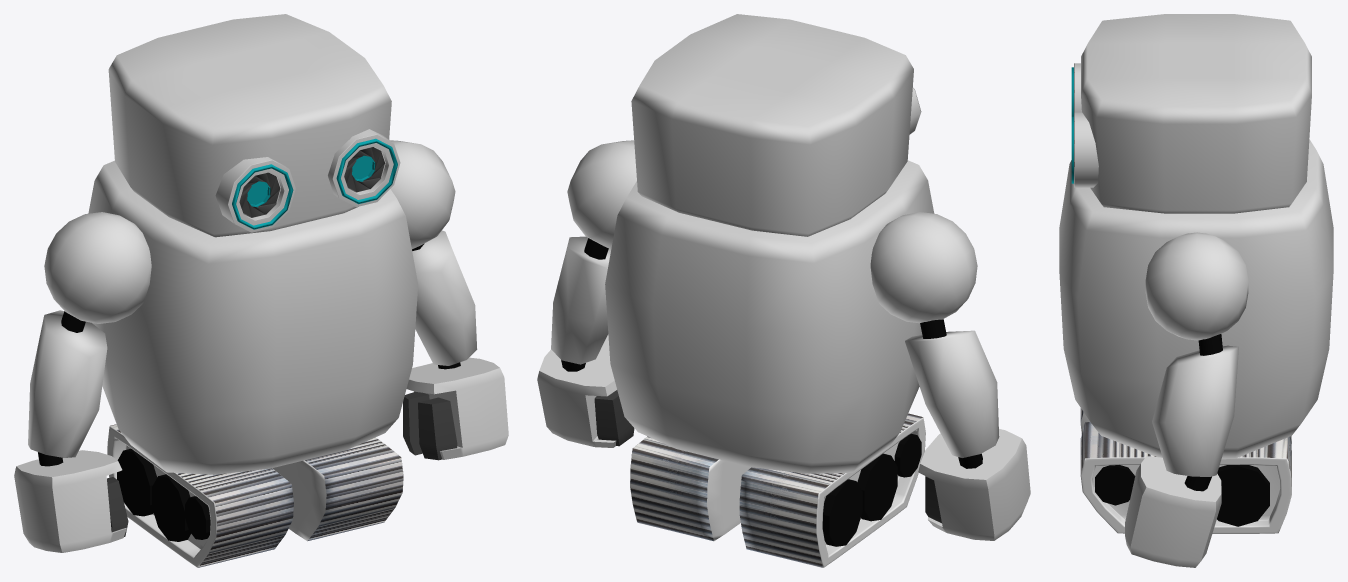
File: Push.fbx
The picture shows the model from 3 angles, left to right: view 1: azimuth 30°, elevation 25°; view 2: azimuth 150°, elevation 25°; view 3: azimuth 270°, elevation 25°; orthographic projection. The views are drawn at different scales.
Visible parts, largest first — view 1: polySurface36, polySurface38, polySurface40, polySurface67, polySurface39, polySurface55, polySurface63, polySurface54, polySurface57, polySurface61, polySurface50, polySurface47 (+10 smaller); view 2: polySurface36, polySurface38, polySurface40, polySurface67, polySurface39, polySurface63, polySurface55, polySurface54, polySurface57, polySurface61, polySurface42, polySurface44 (+2 smaller); view 3: polySurface36, polySurface38, polySurface61, polySurface54, polySurface57, polySurface39, polySurface41, polySurface47, polySurface45, polySurface60, polySurface50.
Part boxes in pixels (x1,y1,x2,y2): polySurface36: (88,160,418,474); polySurface38: (108,14,391,237); polySurface40: (107,424,293,567); polySurface67: (44,212,151,323); polySurface39: (272,437,403,541); polySurface55: (28,310,107,457); polySurface63: (14,450,126,552); polySurface54: (412,230,477,365); polySurface57: (406,357,508,459); polySurface61: (390,140,455,249); polySurface50: (215,157,295,232); polySurface47: (328,129,400,207); polySurface36: (605,160,934,473); polySurface38: (631,14,913,236); polySurface40: (739,413,925,567); polySurface67: (870,212,977,323); polySurface39: (630,436,750,541); polySurface63: (918,429,1030,540); polySurface55: (905,330,999,457); polySurface54: (551,236,610,364); polySurface57: (537,334,616,447); polySurface61: (567,140,636,249); polySurface42: (822,479,862,546); polySurface44: (857,453,897,521); polySurface36: (1059,139,1333,459); polySurface38: (1081,14,1311,213); polySurface61: (1145,232,1248,340); polySurface54: (1152,345,1238,476); polySurface57: (1125,456,1221,567); polySurface39: (1080,422,1291,533); polySurface41: (1217,465,1269,526); polySurface47: (1074,112,1098,187); polySurface45: (1095,465,1135,505); polySurface60: (1198,334,1222,355); polySurface50: (1074,63,1081,112).
Bounding box in the file's own units: 2.74 × 2.52 × 1.46.
